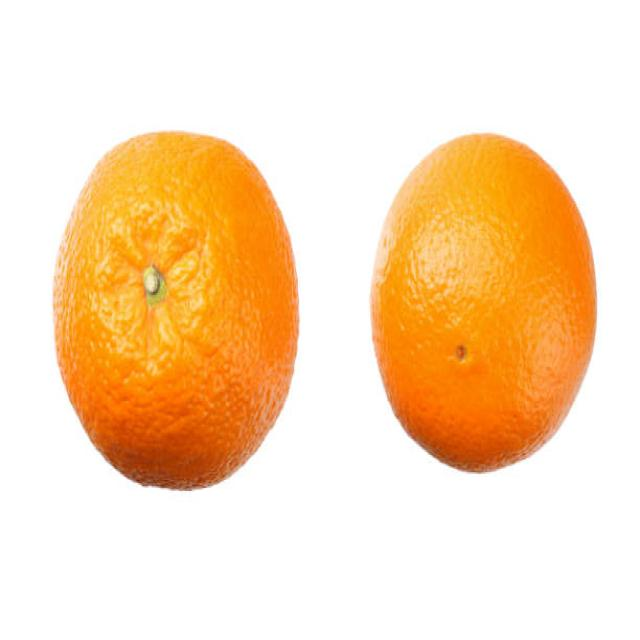Ripe: (51, 126, 302, 493), (365, 129, 599, 478)
